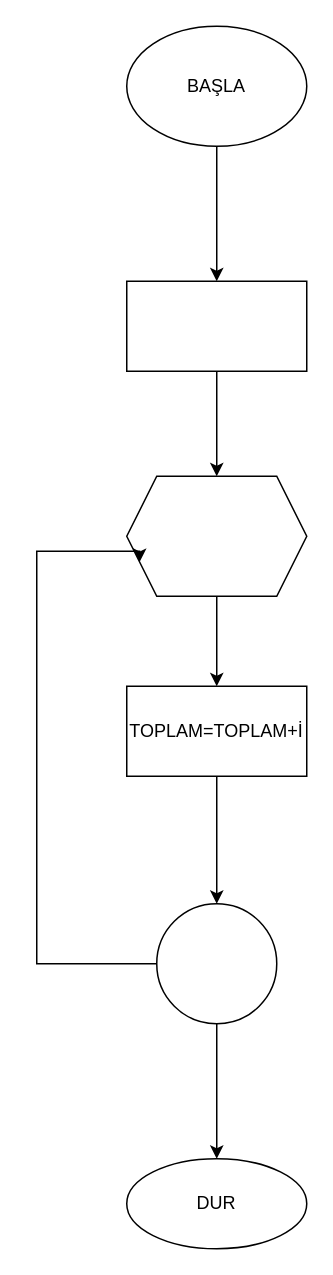
Image size: 333x1275. Some labels were removed from this diagram. Each missing label, with the centre of its shape:
"İ=1,İ<=100,1" goes at point (216, 535).
"TOPLAM=0" goes at point (216, 325).
